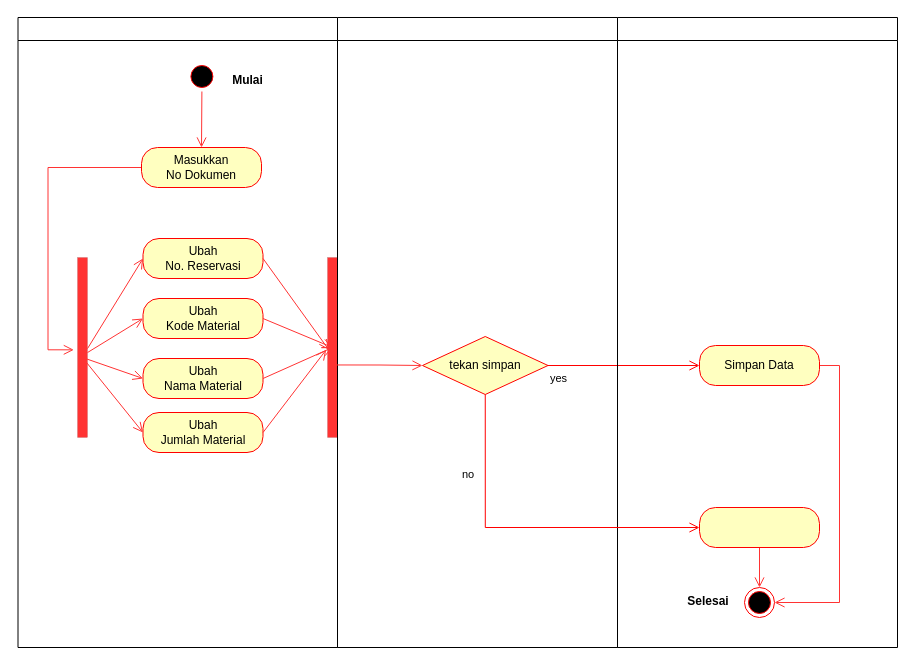
The diagram is 915 pixels wide and 665 high, and some of its shapes have lost their labels. The box of each missing label's shape, as (x1, y1, x2, y2) in pixels:
Aplikasi ATM: (616, 16, 898, 648)
Control Gudang: (336, 16, 618, 648)
Gudang: (17, 16, 338, 648)
Menu Update Transfer Slip: (698, 506, 820, 548)
